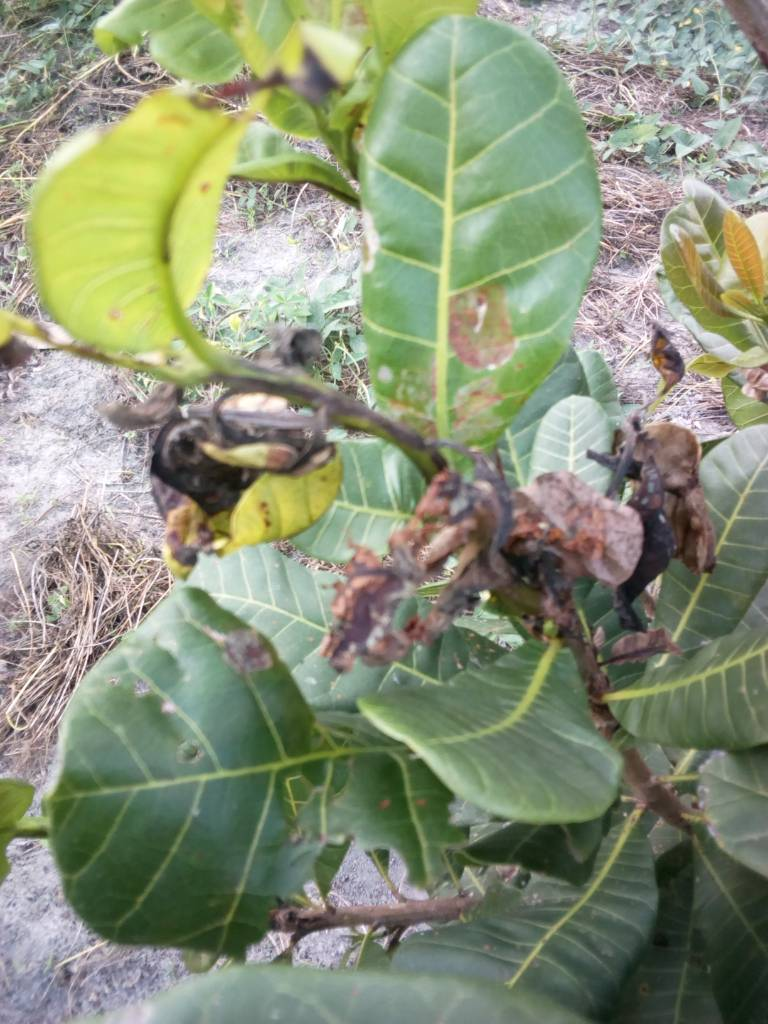Die-black: (113, 383, 349, 561), (420, 454, 560, 629), (603, 423, 706, 595)
